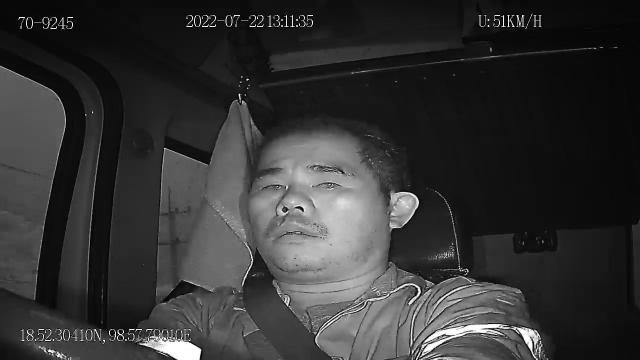SafeDriving: (304, 168, 349, 194), (254, 172, 290, 196)
Seatbelt: (241, 274, 335, 360)
